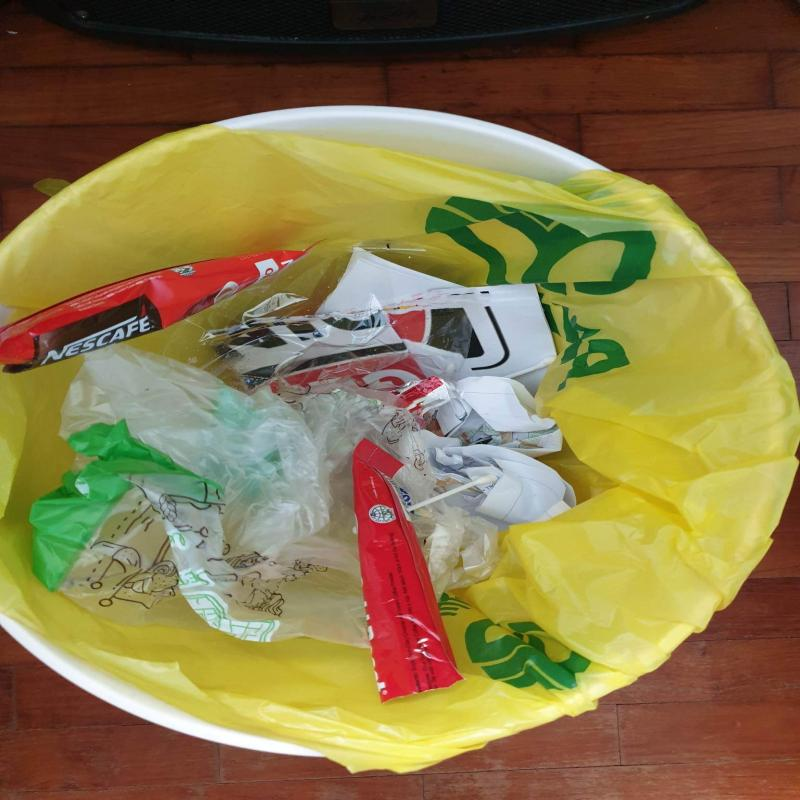food wrapper: (352, 439, 463, 704)
paper: (434, 444, 576, 525), (448, 376, 563, 458)
plastic bag: (23, 344, 366, 652), (295, 391, 507, 598)
plastic sachet: (0, 243, 317, 374)
